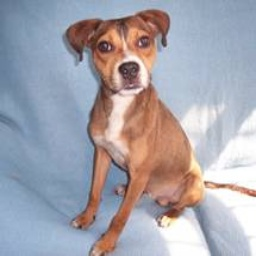dog: (58, 7, 215, 256)
